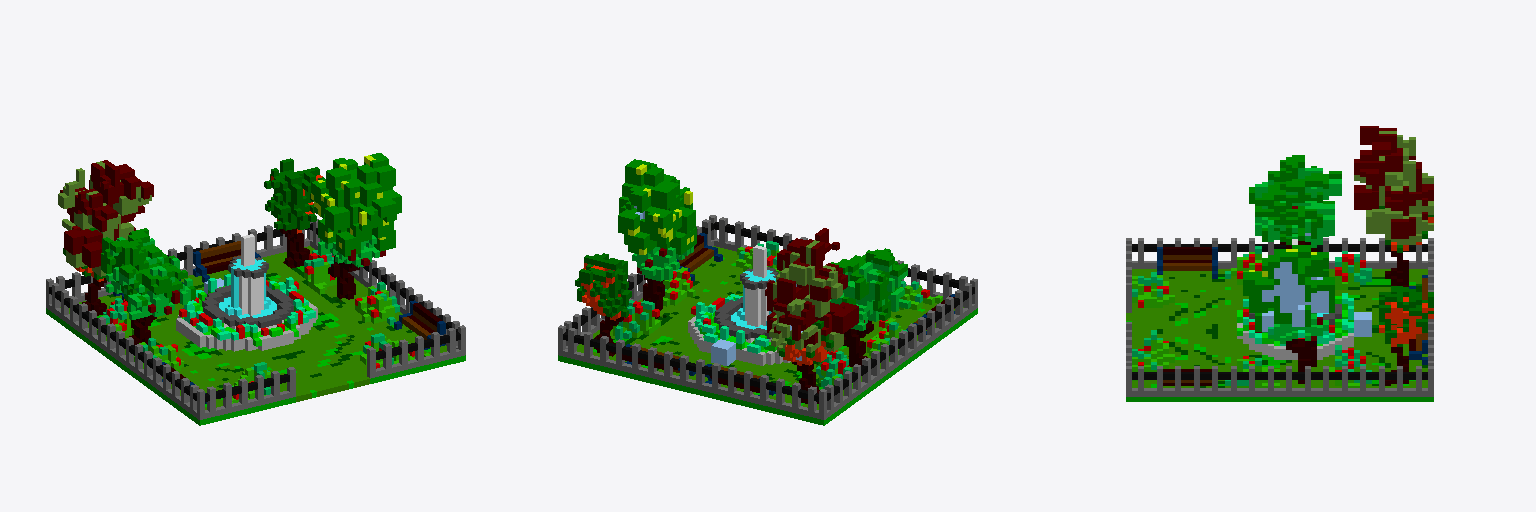
3 views of the same model, side by side, from view 1: azimuth 30°, elevation 25°; view 2: azimuth 150°, elevation 25°; view 3: azimuth 270°, elevation 25° (orthographic).
Parts seen in each view (by area): view 1: object 1; view 2: object 1; view 3: object 1.
Boxes of the visible parts, x1=… form: object 1: x1=46, y1=153, x2=465, y2=425; object 1: x1=558, y1=159, x2=977, y2=425; object 1: x1=1126, y1=126, x2=1433, y2=401.
Size of the model in its own units: 5 by 2.9 by 5.
Materials: 1 (1 with a texture image).